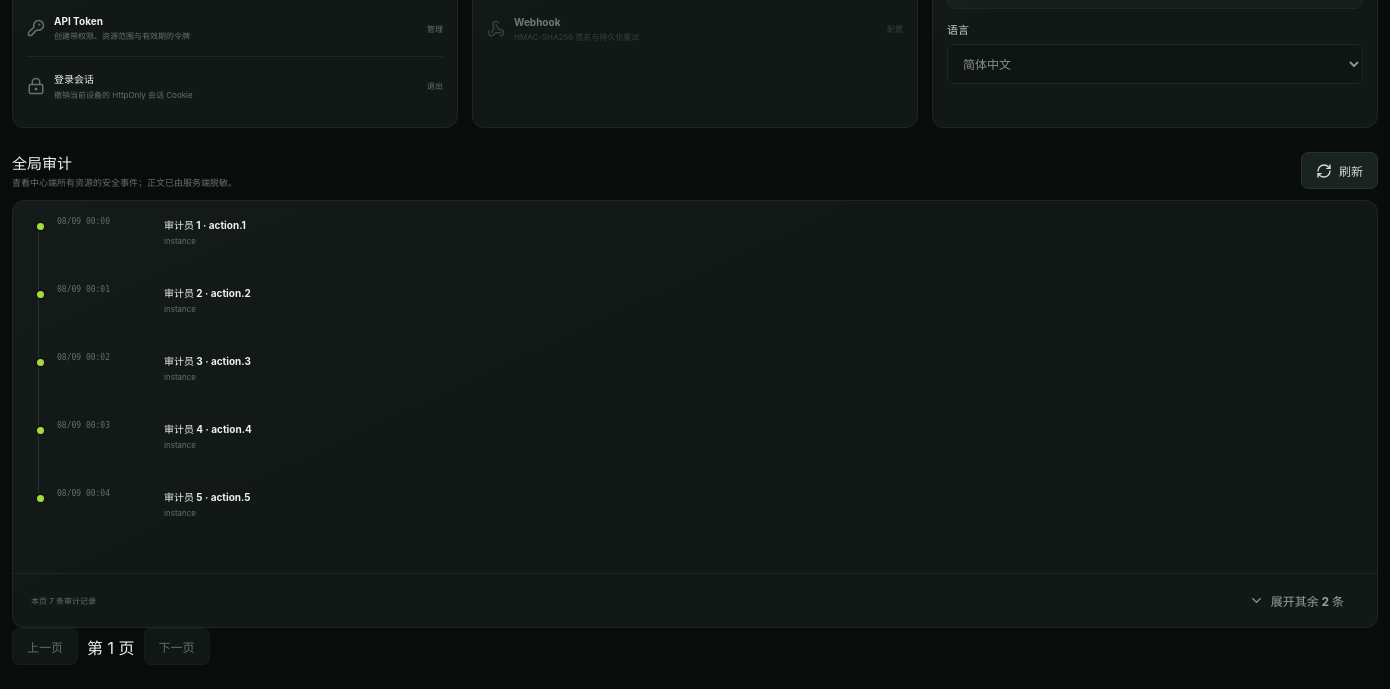
Scenario: 设置页全局审计权限 › 全局审计默认只显示最近五条并可展开或收起
(page scrolled)
Expected: the text "审计员 1 · action.1" is shown, [164,219,246,231]
Expected: the text "审计员 5 · action.5" is shown, [164,491,251,503]
Click the button "展开其余 2 条" at (1296, 601), box [1234,582,1359,619]
(page scrolled)
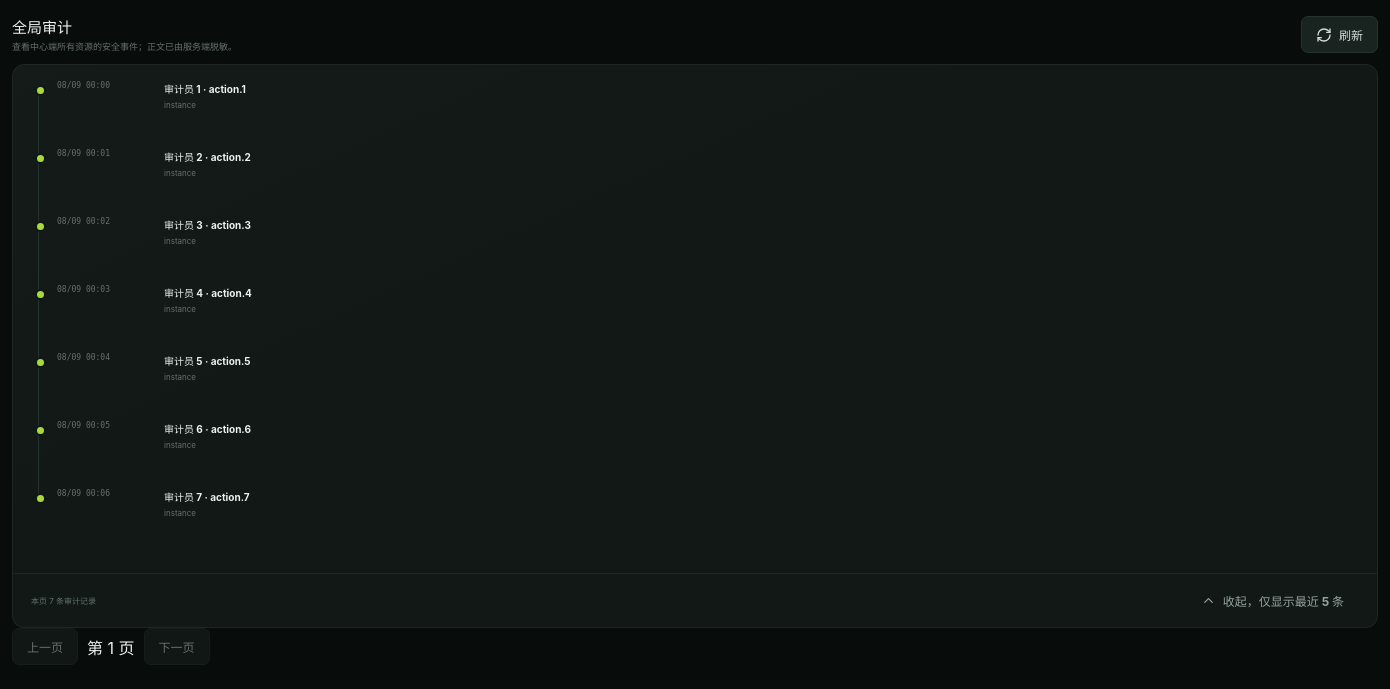
Now the text "审计员 7 · action.7" is shown, box [164,491,250,503]
Click the button "收起，仅显示最近 5 条" at (1272, 601), box [1186,582,1359,619]
(page scrolled)
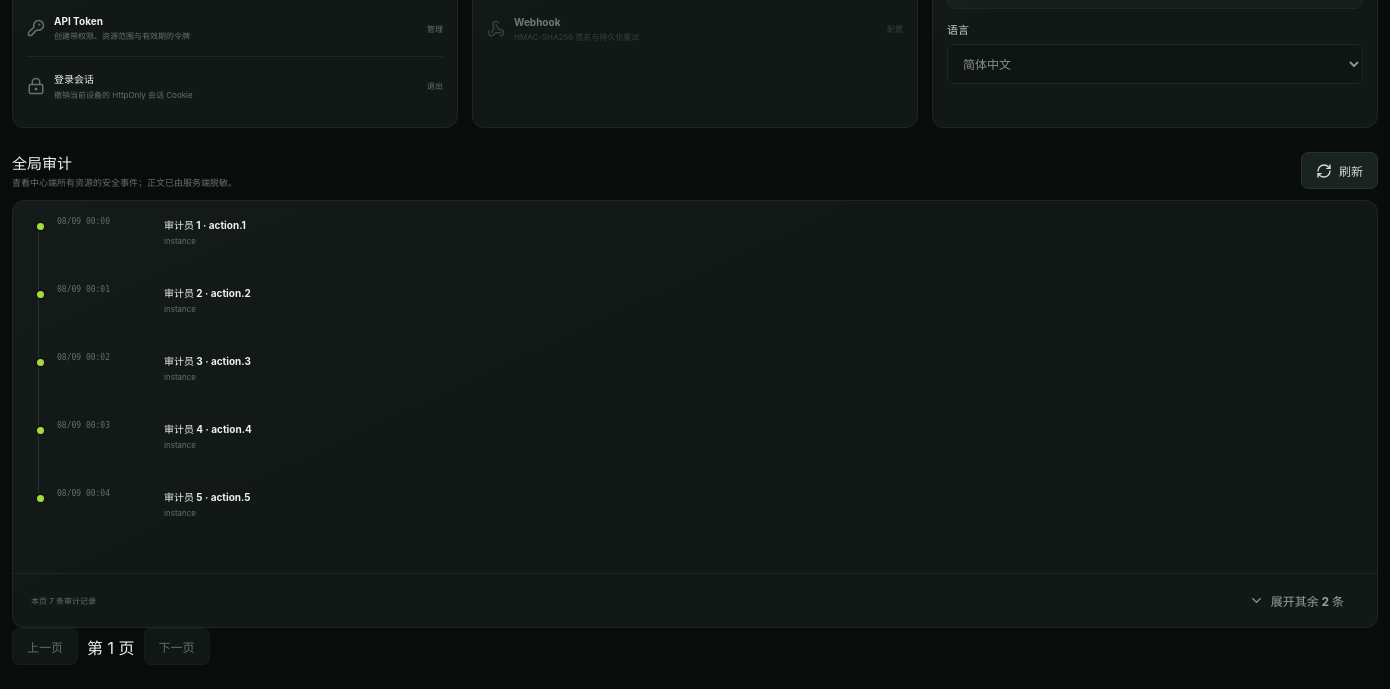
Now the text "审计员 6 · action.6" is gone
